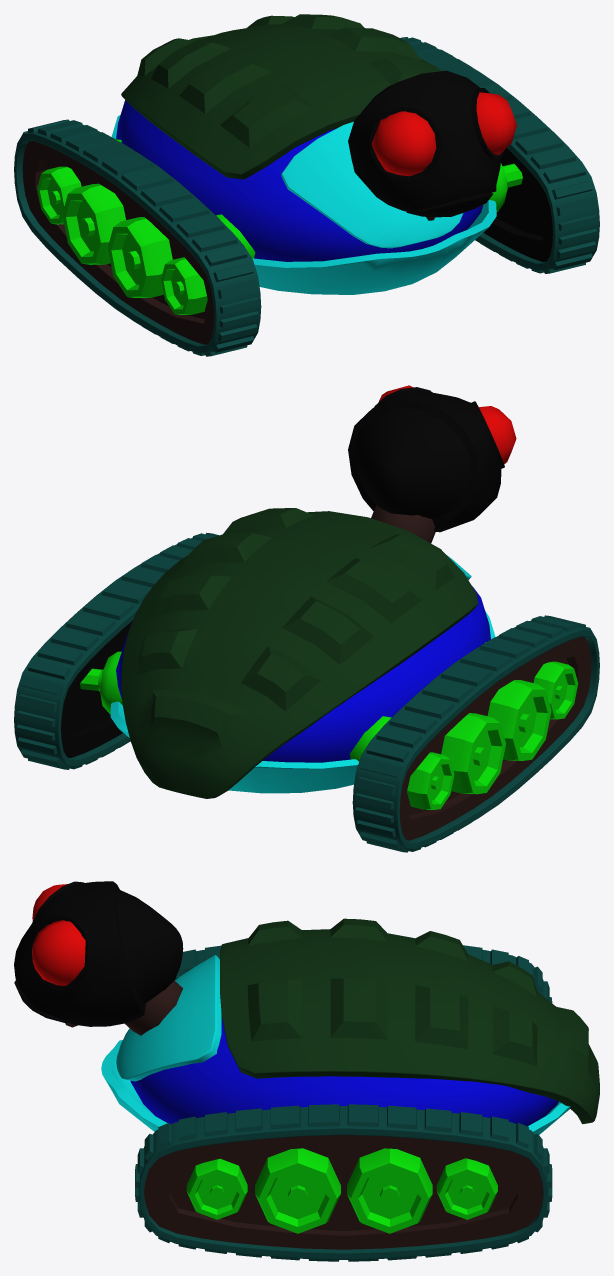
The model's file is Turtle_Separated.fbx.
3 renders of one model, top to bottom at view 1: azimuth 30°, elevation 25°; view 2: azimuth 150°, elevation 25°; view 3: azimuth 270°, elevation 25°, orthographic.
Visible parts, largest first — view 1: TurtleSeperated, Legs, Head; view 2: TurtleSeperated, Legs, Head; view 3: TurtleSeperated, Legs, Head.
Part boxes in pixels (<box>): TurtleSeperated: <box>111,14,496,294</box>; Legs: <box>14,37,599,356</box>; Head: <box>348,70,516,220</box>; TurtleSeperated: <box>110,508,495,798</box>; Legs: <box>14,532,599,852</box>; Head: <box>348,385,516,543</box>; TurtleSeperated: <box>101,918,599,1134</box>; Legs: <box>135,945,552,1261</box>; Head: <box>14,881,183,1035</box>.
Bounding box in the file's own units: 37.94 × 24.75 × 47.03.
